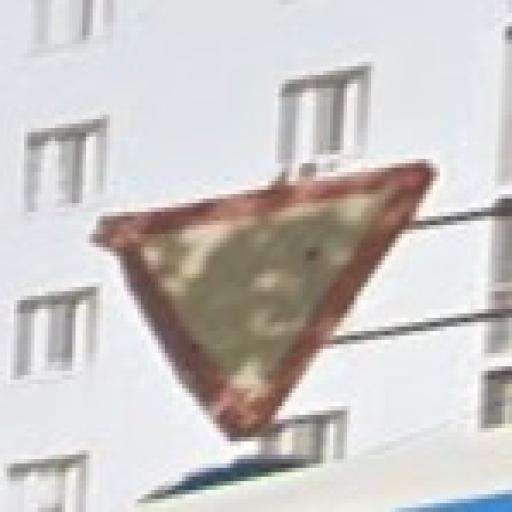traffic_sign: (84, 156, 438, 443)
